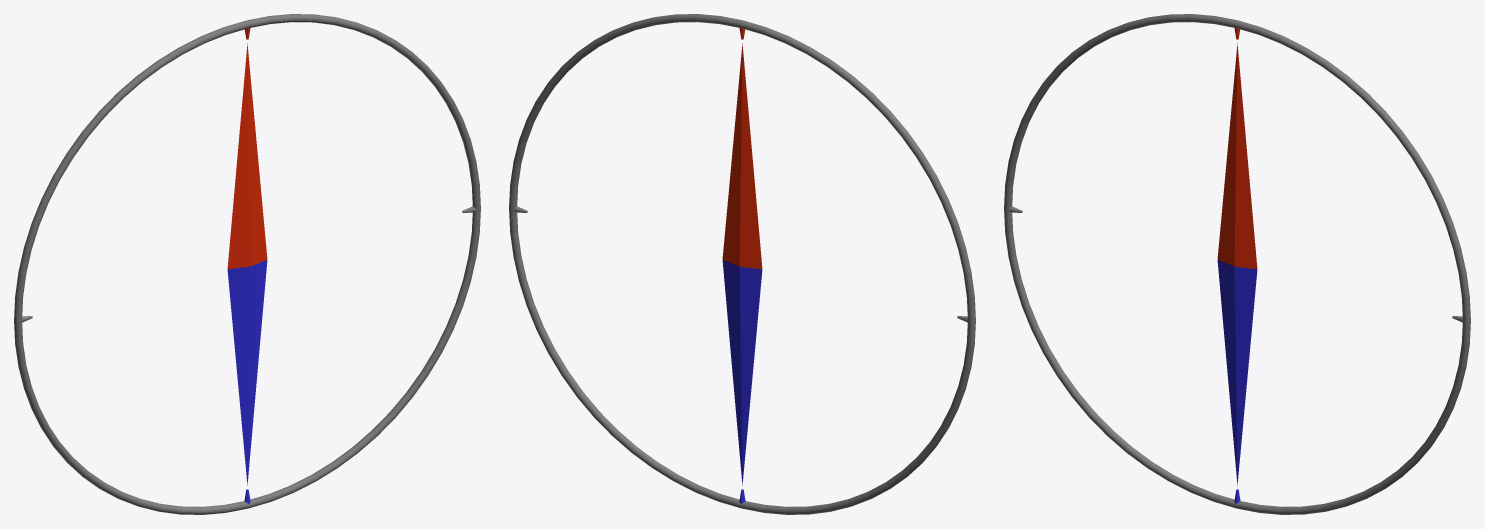
Rendered from compass.glb.
3 renders of one model, left to right at view 1: azimuth 30°, elevation 25°; view 2: azimuth 150°, elevation 25°; view 3: azimuth 330°, elevation 25°, orthographic.
Visible parts, largest first — view 1: Torus, Cube; view 2: Torus, Cube; view 3: Torus, Cube.
Boxes of the visible parts, x1,y1,x2,y2 form: Torus: (14,14,480,514); Cube: (227,43,267,485); Torus: (509,14,975,514); Cube: (722,43,762,485); Torus: (1004,14,1470,514); Cube: (1217,43,1257,485).
Bounding box in the file's own units: 1.32 × 1.32 × 0.0283.
